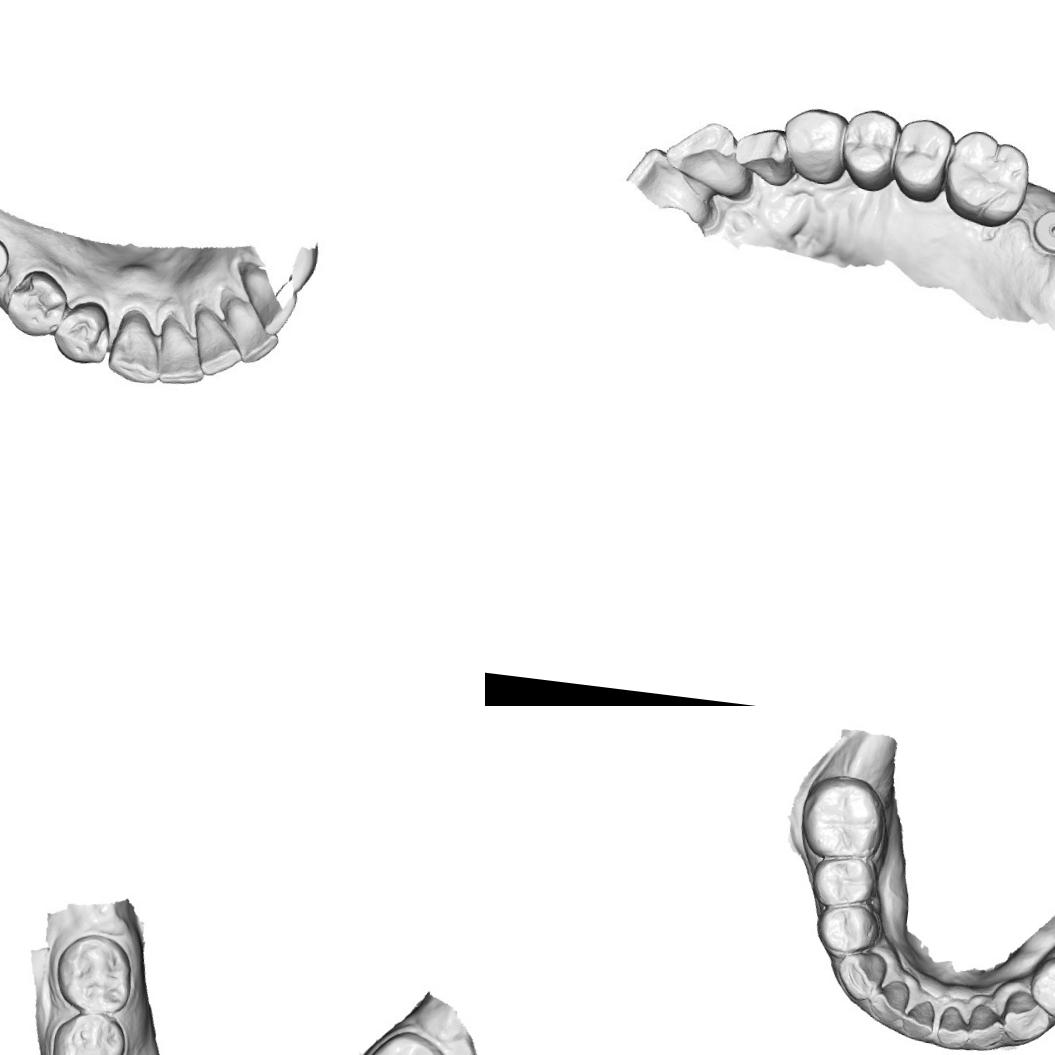canine: (782, 106, 846, 186), (105, 303, 166, 386), (834, 947, 890, 1004), (1000, 987, 1054, 1045)
implant: (1026, 200, 1055, 269), (0, 224, 16, 292)
incisor: (661, 115, 753, 199), (727, 121, 796, 186), (188, 304, 244, 380), (218, 294, 281, 360), (156, 316, 206, 381), (865, 976, 912, 1029), (966, 1001, 1007, 1051), (898, 997, 938, 1042), (934, 1003, 972, 1049)
molar: (935, 124, 1036, 232), (795, 769, 892, 866), (49, 930, 140, 1016), (46, 1004, 131, 1055), (352, 1023, 457, 1055)
premolar: (886, 113, 956, 206), (836, 107, 901, 194), (808, 852, 880, 912), (812, 898, 884, 958), (7, 269, 72, 335), (57, 306, 107, 367), (1025, 952, 1055, 1023)
